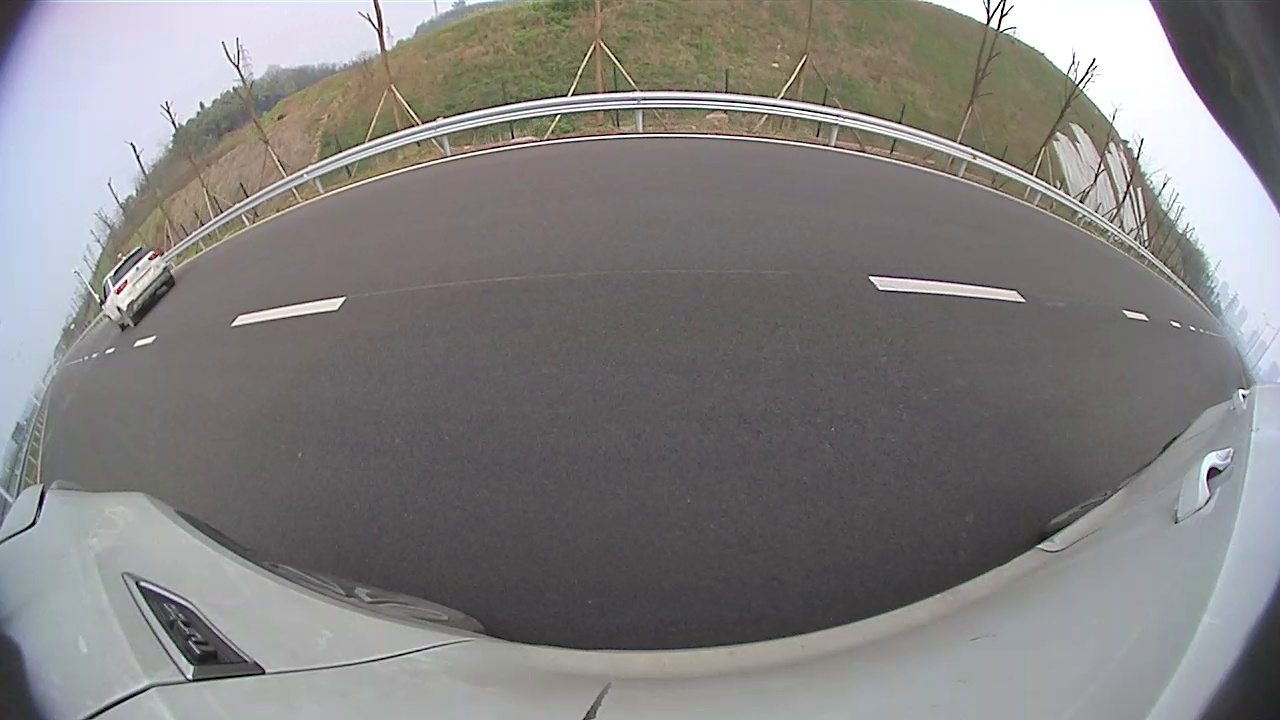car: (100, 245, 175, 331)
rear: (117, 306, 135, 328)
